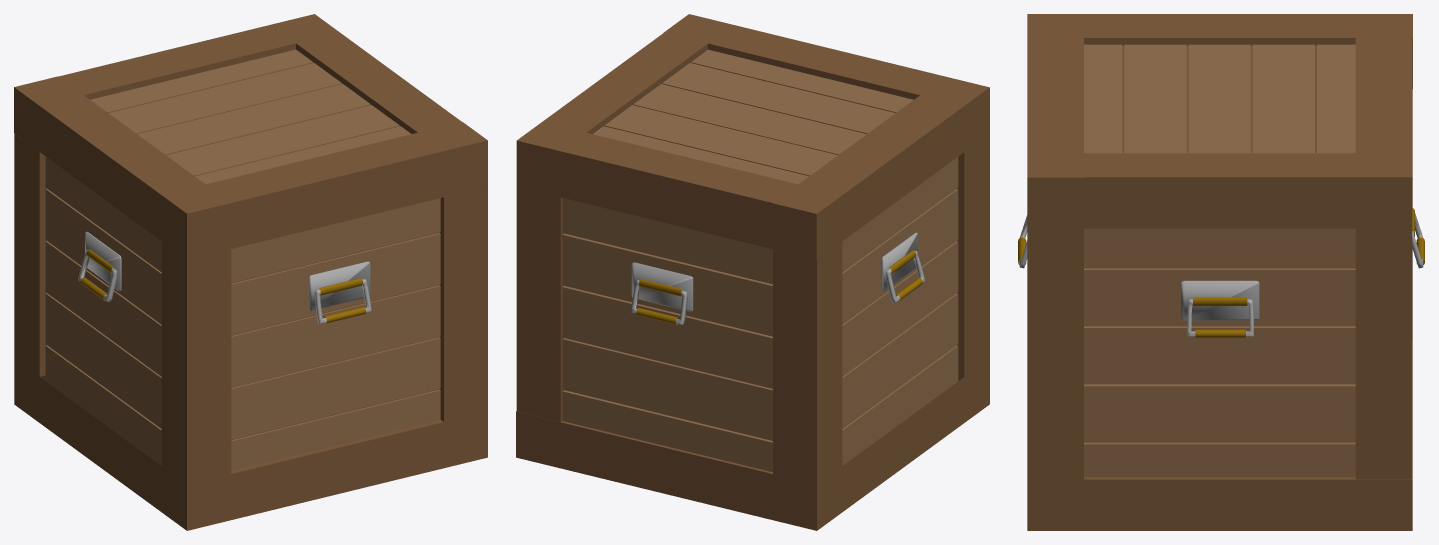
The picture shows the model from 3 angles, left to right: view 1: azimuth 30°, elevation 25°; view 2: azimuth 150°, elevation 25°; view 3: azimuth 270°, elevation 25°; orthographic projection. The views are drawn at different scales.
Visible parts, largest first — view 1: Cube.005; view 2: Cube.005; view 3: Cube.005.
Boxes of the visible parts, left/top/right/bottom form: Cube.005: left=14, top=14, right=487, bottom=530; Cube.005: left=516, top=14, right=989, bottom=530; Cube.005: left=1018, top=14, right=1424, bottom=530.
Size of the model in its own units: 220 by 210 by 219.
